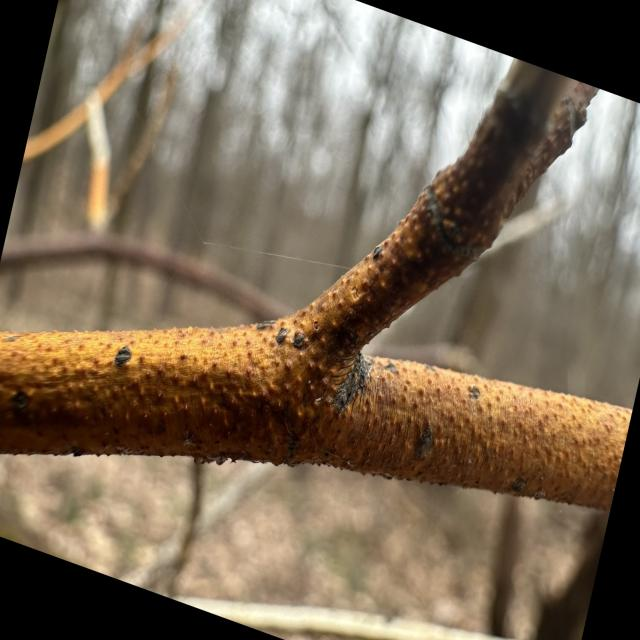Golden_canker: (1, 103, 640, 544)
